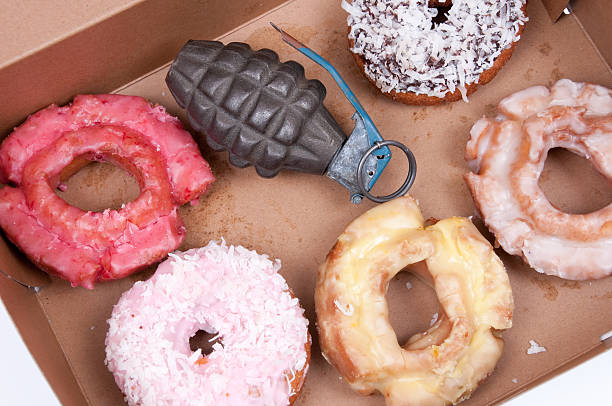e1: (170, 24, 417, 202)
